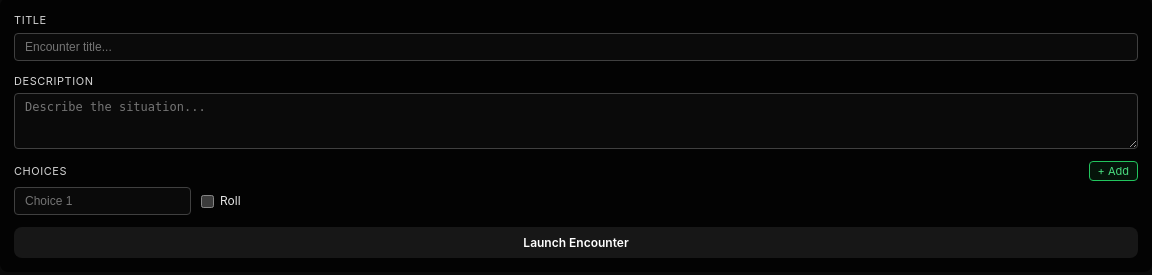
Test: EncounterBuilder › Roll checkbox reveals Skill and DC fields
Click the checkbox labelled "Roll" at [208, 201], box [201,194,214,208]
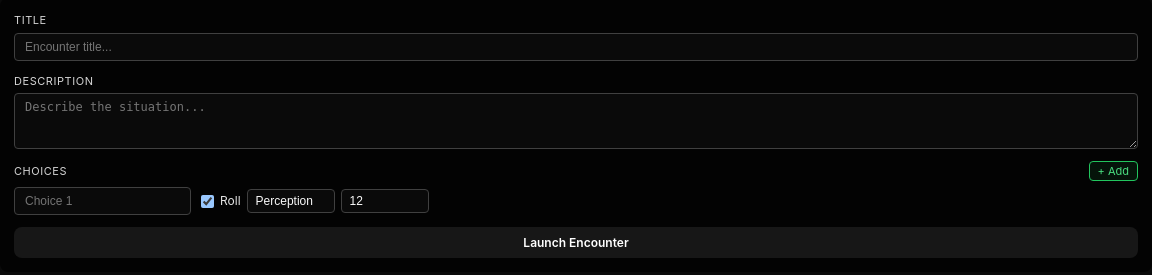
Expected: the field with placeholder "Skill" is shown, [247,189,335,213]
Expected: the number field with placeholder "DC" is shown, [341,189,429,213]
